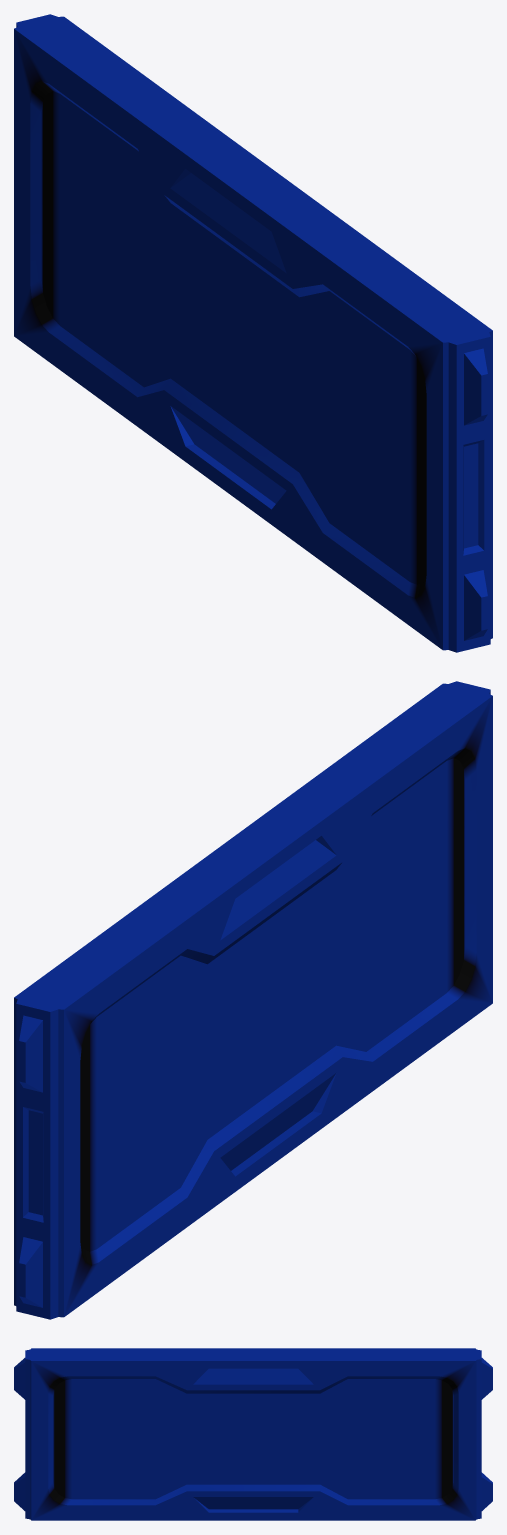
File: Door_Trigger.fbx
3 renders of one model, top to bottom at view 1: azimuth 30°, elevation 25°; view 2: azimuth 150°, elevation 25°; view 3: azimuth 270°, elevation 25°, orthographic. The views are drawn at different scales.
Parts seen in each view (by area): view 1: Sliding_Door_01; view 2: Sliding_Door_01; view 3: Sliding_Door_01.
Part boxes in pixels (left/top/right/bottom): Sliding_Door_01: left=14, top=14, right=492, bottom=652; Sliding_Door_01: left=14, top=681, right=492, bottom=1319; Sliding_Door_01: left=14, top=1348, right=492, bottom=1520.
Bounding box in the file's own units: 67.28 × 396 × 1077.
